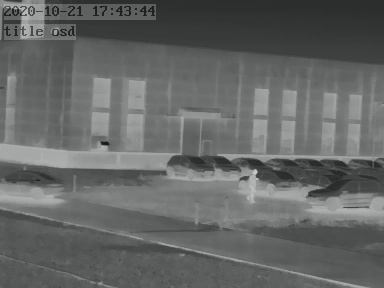person: (248, 169, 258, 204)
vehicle: (307, 175, 384, 209), (1, 168, 63, 199), (243, 168, 306, 193), (165, 153, 213, 178), (203, 153, 242, 177), (231, 155, 267, 172), (263, 155, 296, 170), (348, 156, 380, 171), (296, 156, 328, 170), (316, 156, 346, 170)
